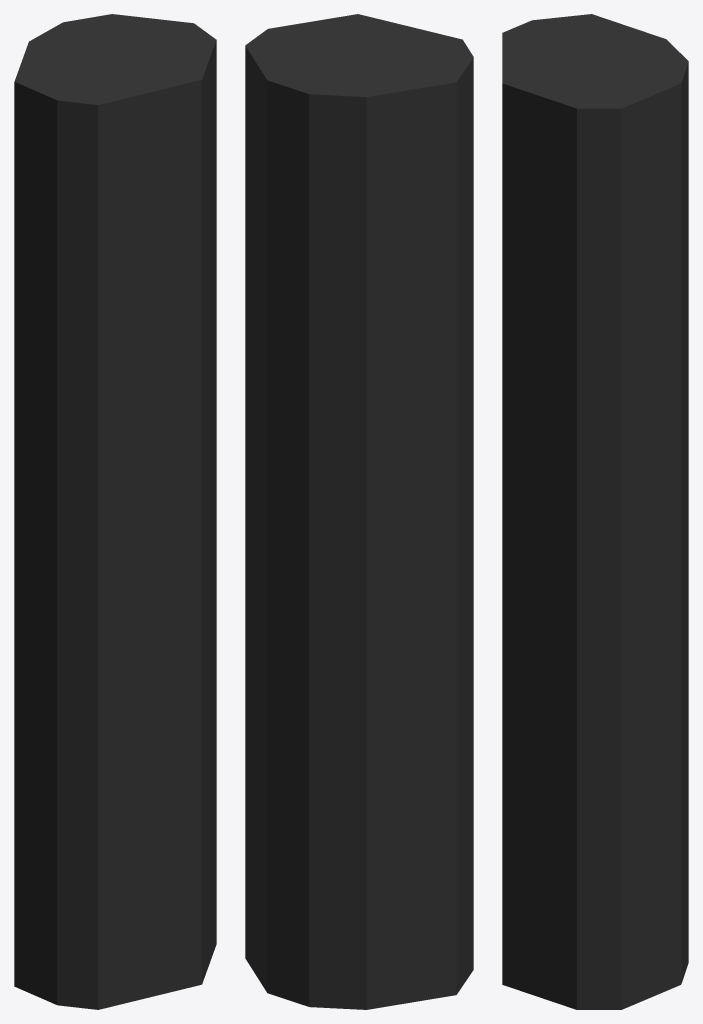
Rendered from Rock3.fbx.
3 views of the same model, side by side, from view 1: azimuth 30°, elevation 25°; view 2: azimuth 150°, elevation 25°; view 3: azimuth 270°, elevation 25° (orthographic).
Visible parts, largest first — view 1: Rock3; view 2: Rock3; view 3: Rock3.
Boxes of the visible parts, x1,y1,x2,y2 form: Rock3: (14, 14, 216, 1009); Rock3: (245, 14, 473, 1009); Rock3: (502, 14, 688, 1009).
Size of the model in its own units: 450 by 2000 by 375.
